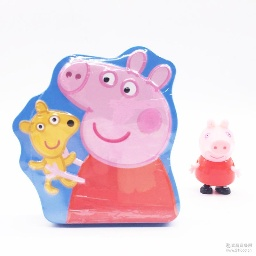Peppa: (59, 50, 178, 224), (187, 117, 242, 196)
